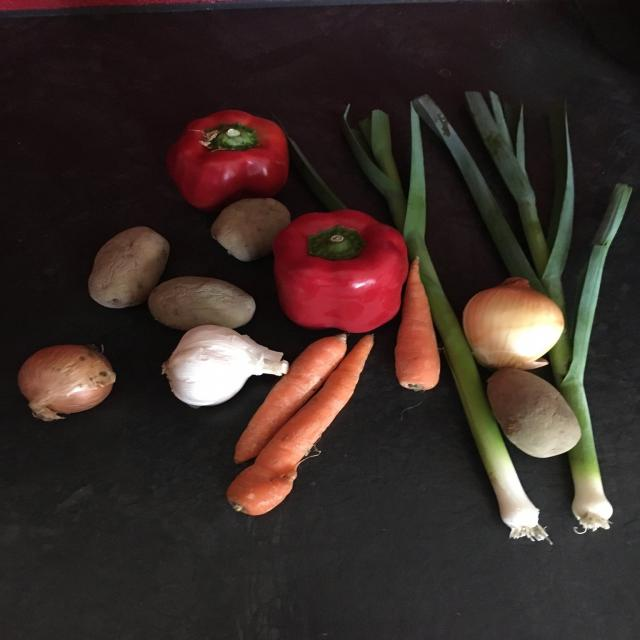carrot: (232, 330, 376, 525), (391, 254, 448, 400)
garlic: (161, 326, 289, 412)
leek: (332, 113, 550, 547), (417, 88, 617, 527)
onion: (460, 278, 565, 370), (14, 342, 130, 425)
pepper: (277, 205, 413, 335), (166, 106, 294, 205)
potato: (74, 223, 174, 311), (484, 368, 581, 458), (149, 273, 264, 335), (210, 193, 296, 264)
